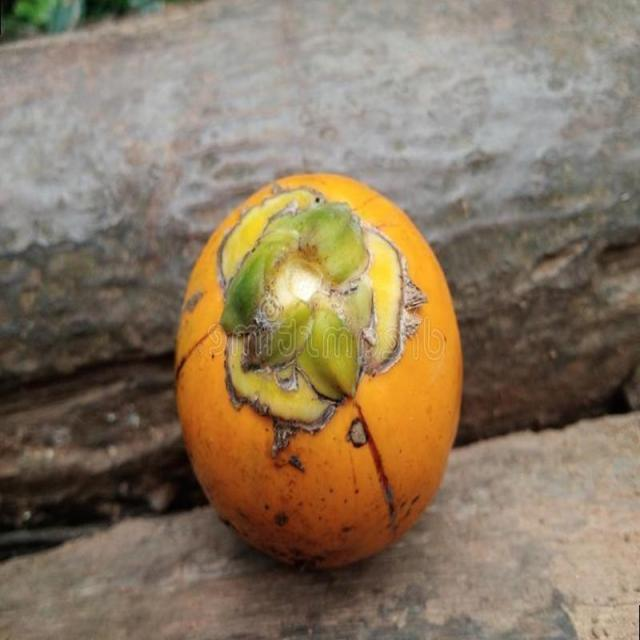good: (174, 175, 463, 573)
